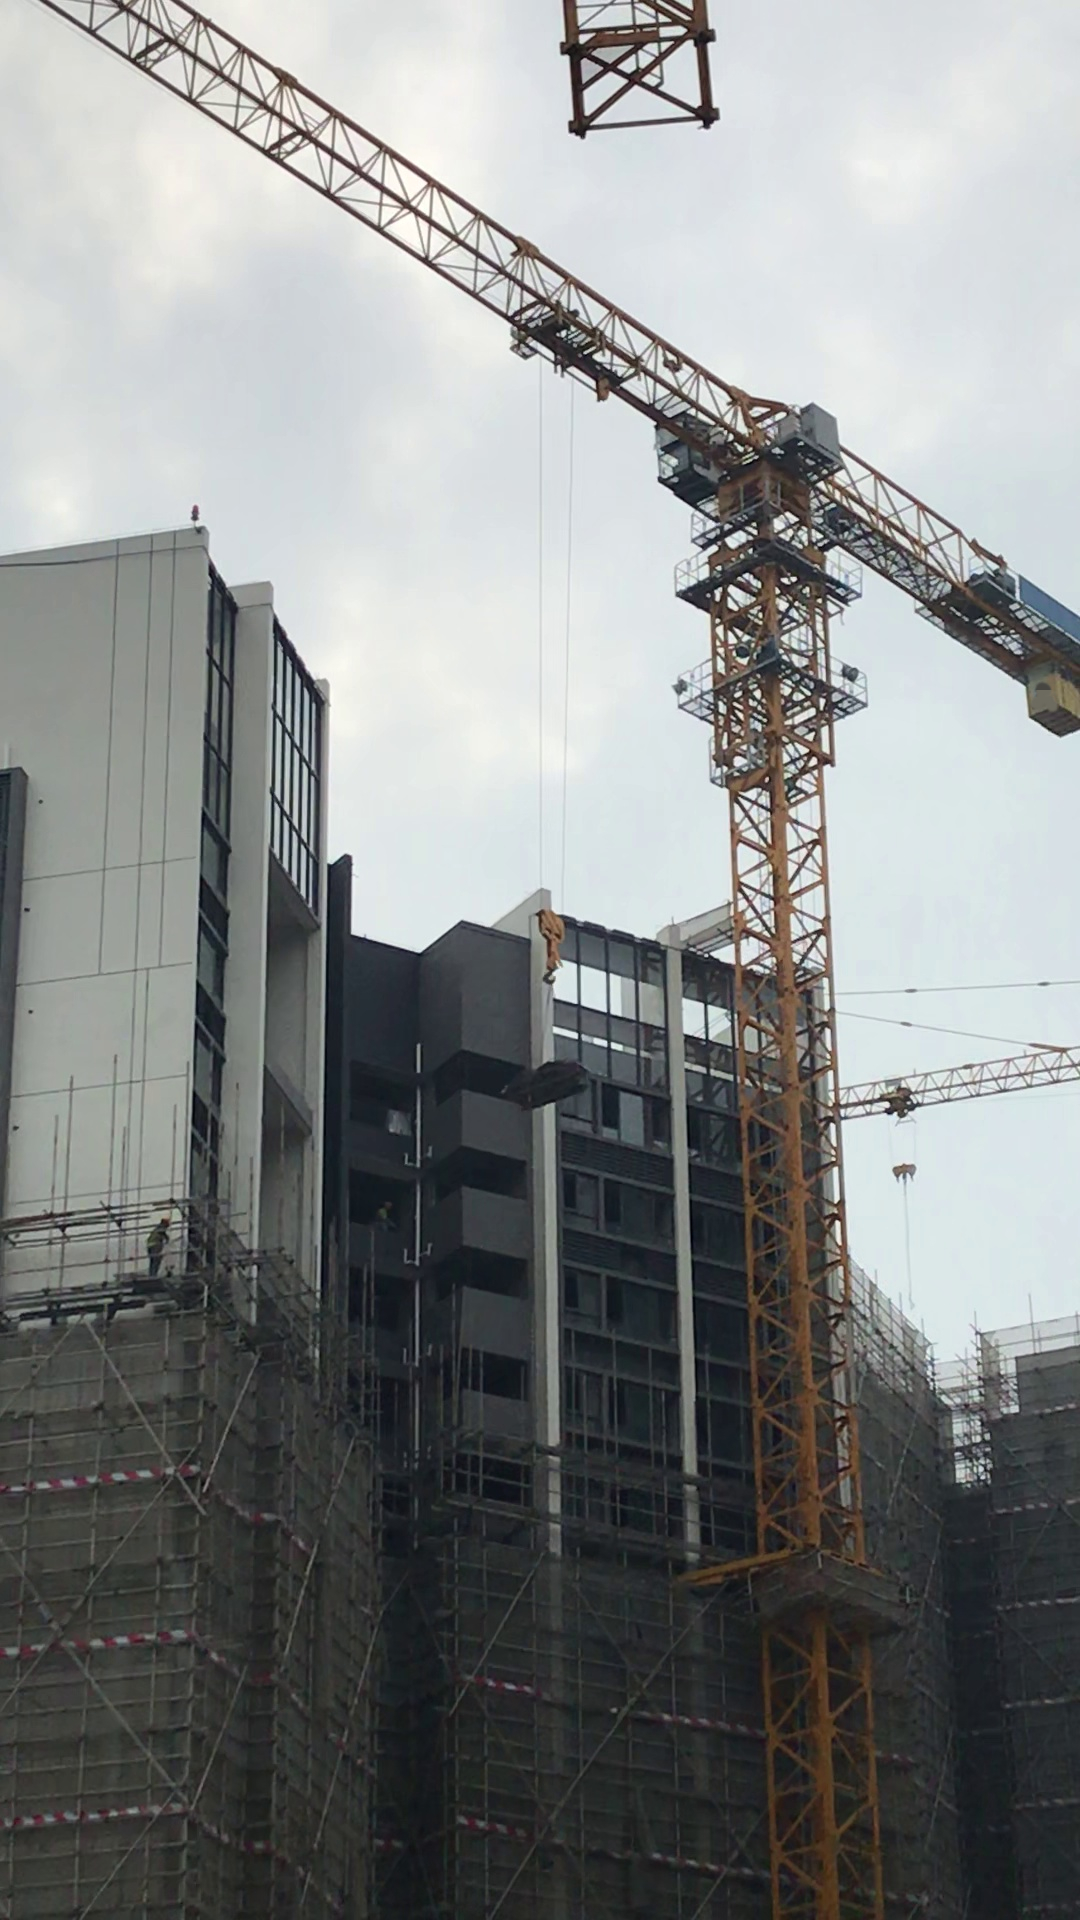hook: (531, 910, 572, 989), (891, 1159, 916, 1185)
